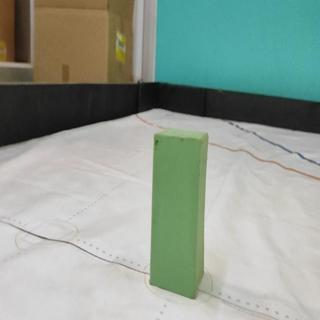greenbox: (148, 127, 209, 299)
